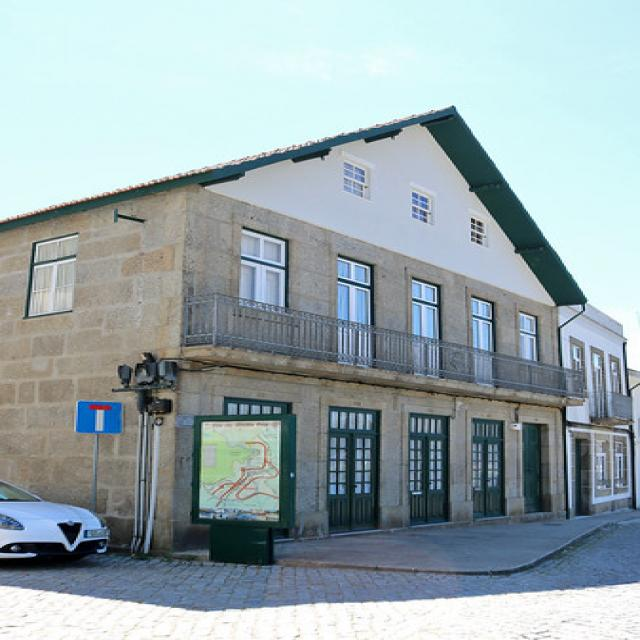Normal_building: (2, 101, 640, 565)
